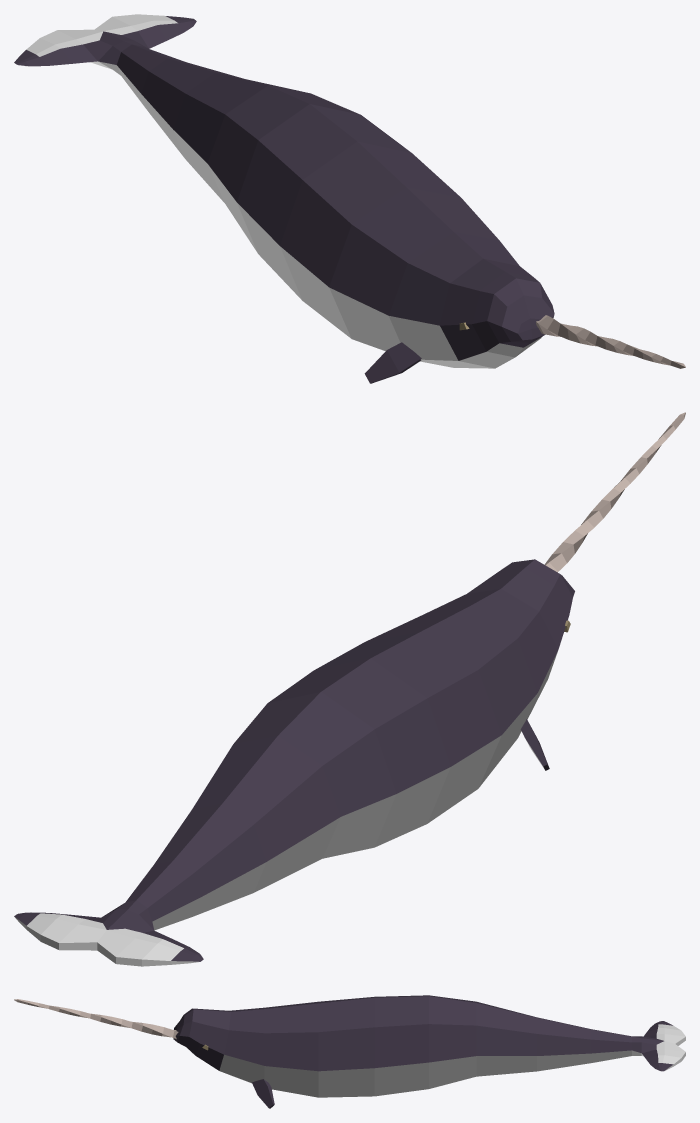
File: Mesh_Narwhal.obj
The picture shows the model from 3 angles, top to bottom: view 1: azimuth 30°, elevation 25°; view 2: azimuth 150°, elevation 25°; view 3: azimuth 270°, elevation 25°; orthographic projection. The views are drawn at different scales.
Parts seen in each view (by area): view 1: Geo_Narwhal; view 2: Geo_Narwhal; view 3: Geo_Narwhal.
Boxes of the visible parts, x1=… form: Geo_Narwhal: x1=14, y1=14, x2=685, y2=383; Geo_Narwhal: x1=14, y1=412, x2=685, y2=966; Geo_Narwhal: x1=14, y1=995, x2=685, y2=1108.
Size of the model in its own units: 118 by 110 by 669.
1 material, 1 textured.
